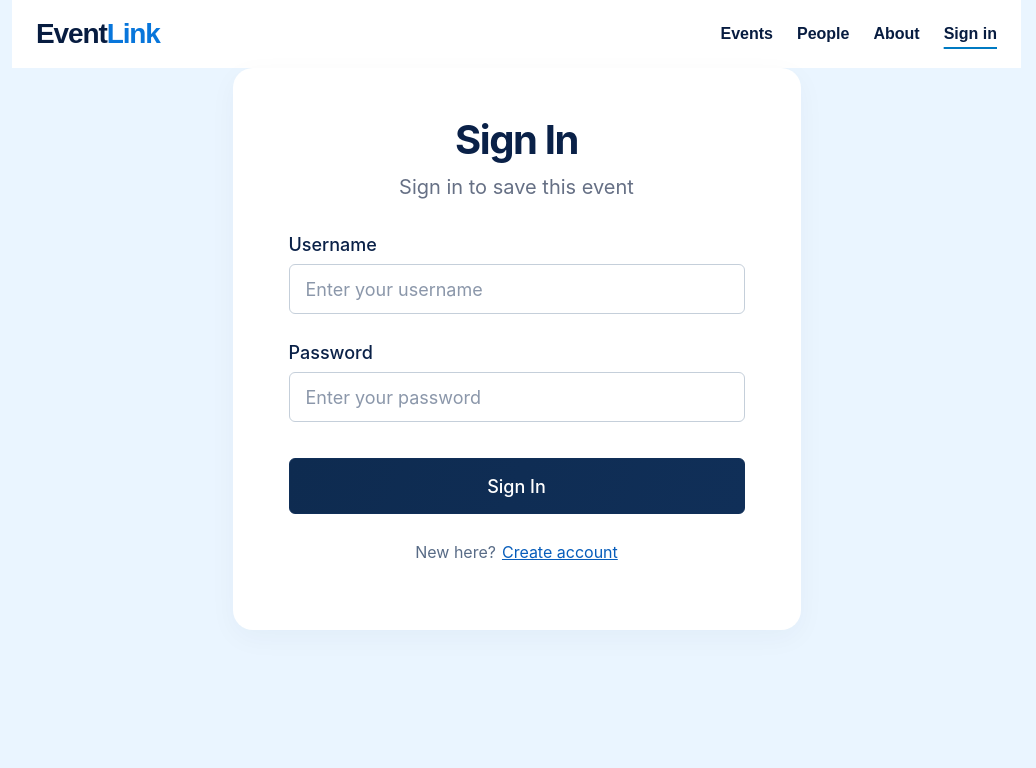
Scenario: sign-in restores a pending search and event without automatically saving
Expected: the button "Sign In" is enabled, top-left (288, 458), bottom-right (744, 514)
Step 1. Type "account-owner" into the field labelled "Username" → (516, 289), box top-left (288, 264), bottom-right (744, 314)
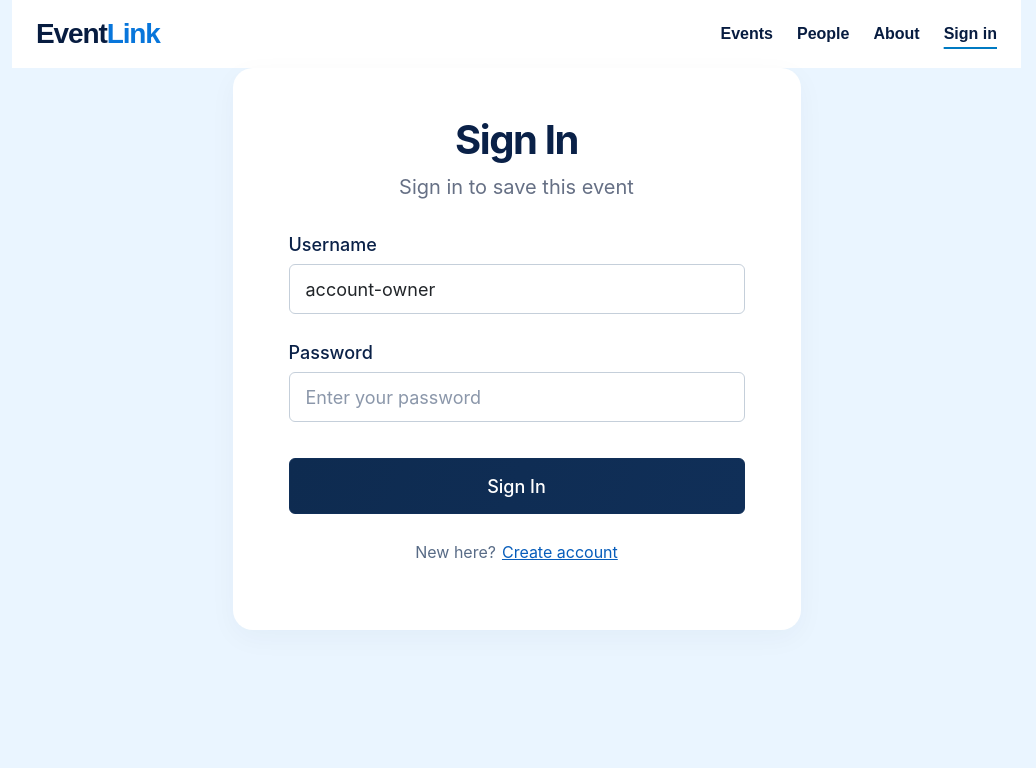
Step 2. Type "test-password-123" into the password field labelled "Password" → (516, 397), box top-left (288, 372), bottom-right (744, 422)
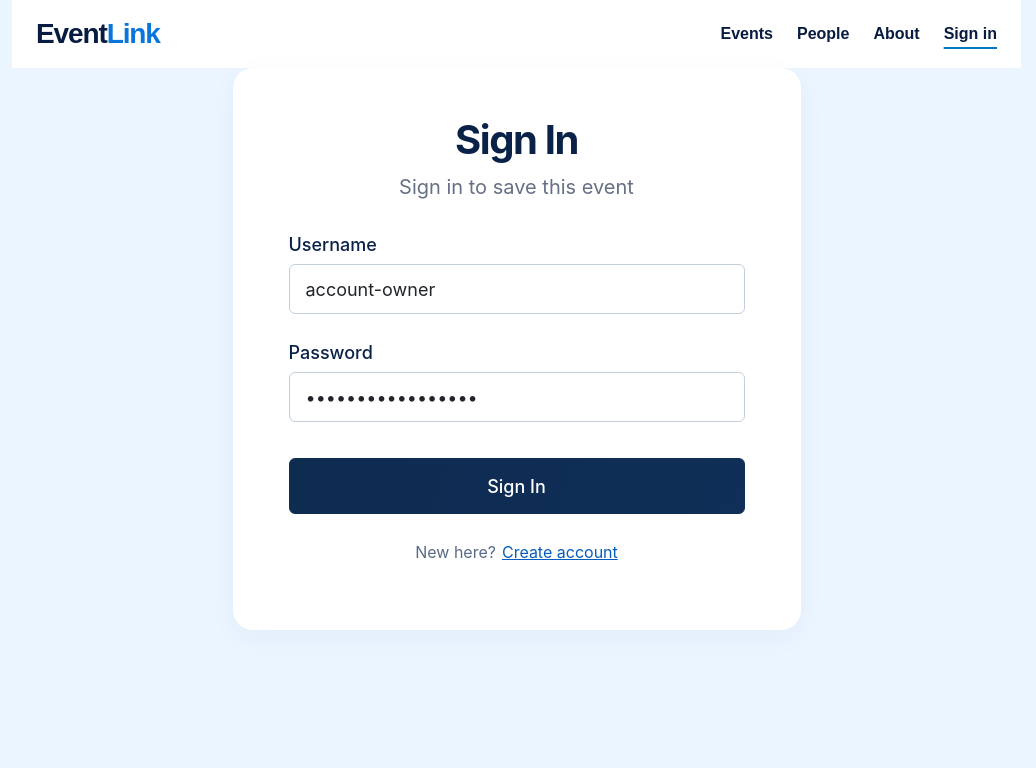
Step 3. Click the button "Sign In" → (516, 486), box top-left (288, 458), bottom-right (744, 514)
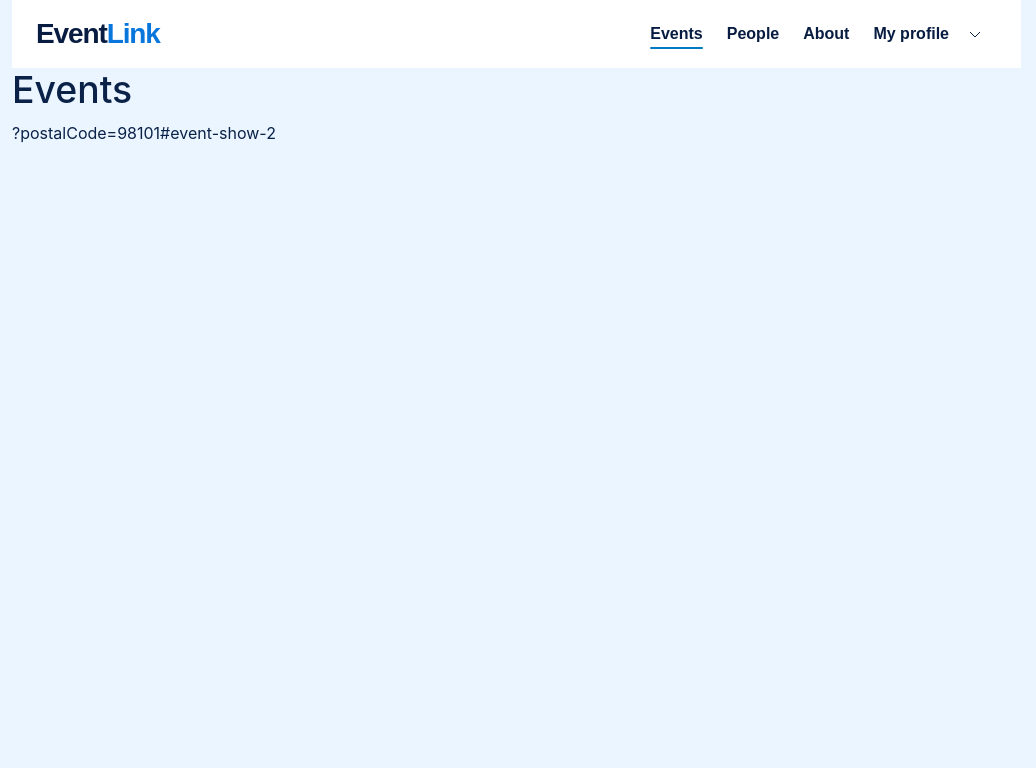
Now the heading "Events" is shown, box top-left (12, 67), bottom-right (132, 112)
Now the text "?postalCode=98101#event-show-2" is shown, box top-left (12, 123), bottom-right (276, 143)
